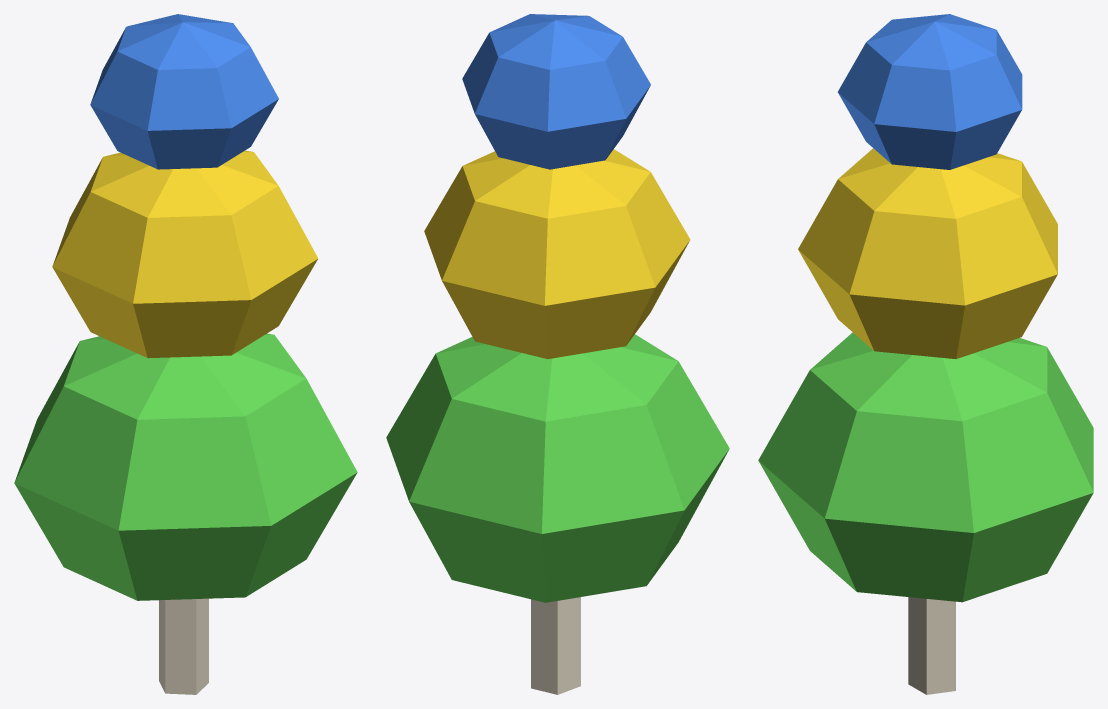
The model's file is land_tree_toy_stack_green.glb.
3 renders of one model, left to right at view 1: azimuth 30°, elevation 25°; view 2: azimuth 150°, elevation 25°; view 3: azimuth 270°, elevation 25°, orthographic.
Bounding box in the file's own units: 3.9 × 8.28 × 3.8.
